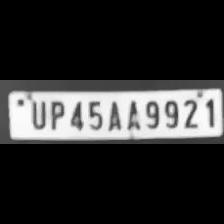1: (200, 95, 216, 129)
2: (180, 96, 200, 130)
4: (65, 99, 84, 131)
5: (84, 97, 104, 130)
9: (160, 97, 180, 129), (142, 96, 160, 130)
A: (105, 98, 123, 132), (123, 97, 141, 131)
P: (45, 99, 65, 131)
U: (27, 98, 47, 130)
